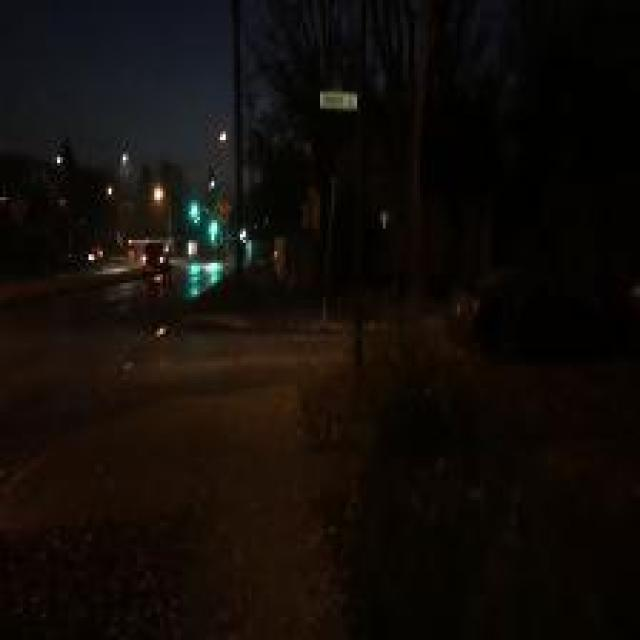other: (112, 165, 166, 212)
